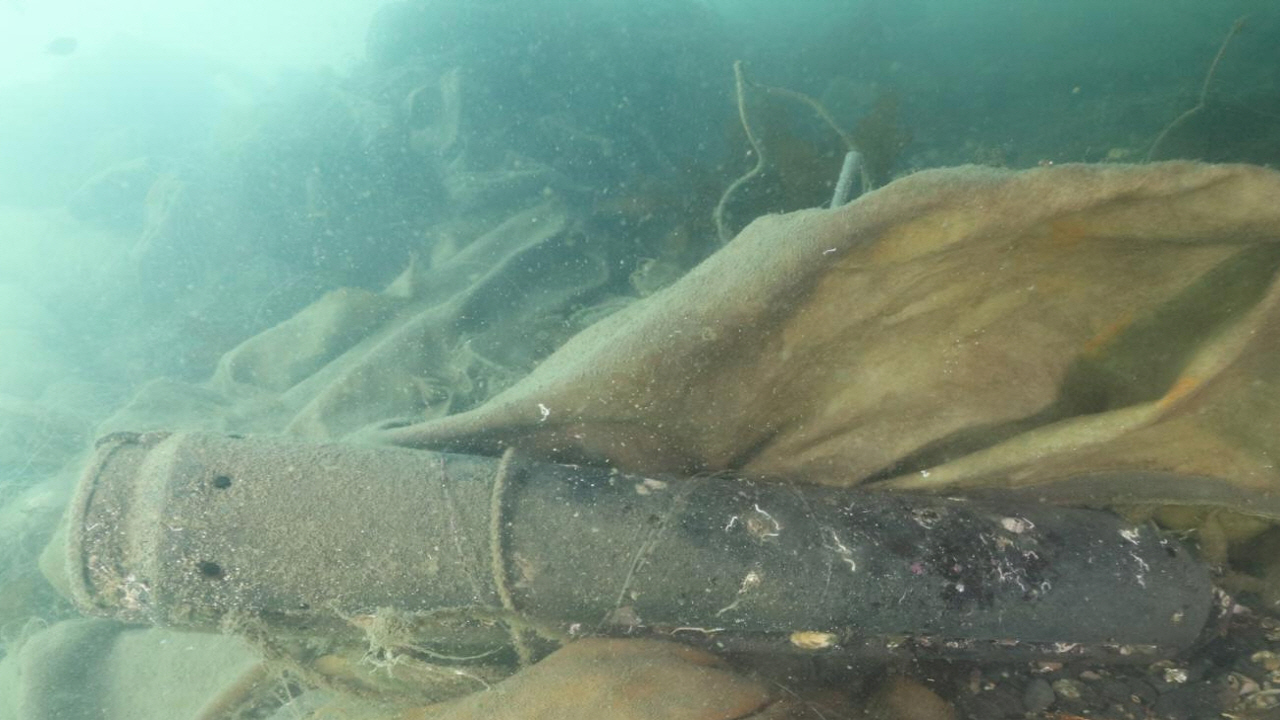bundle of ropes: (244, 443, 571, 698)
eel fish trap: (62, 428, 1216, 671)
rope: (712, 58, 872, 243)
